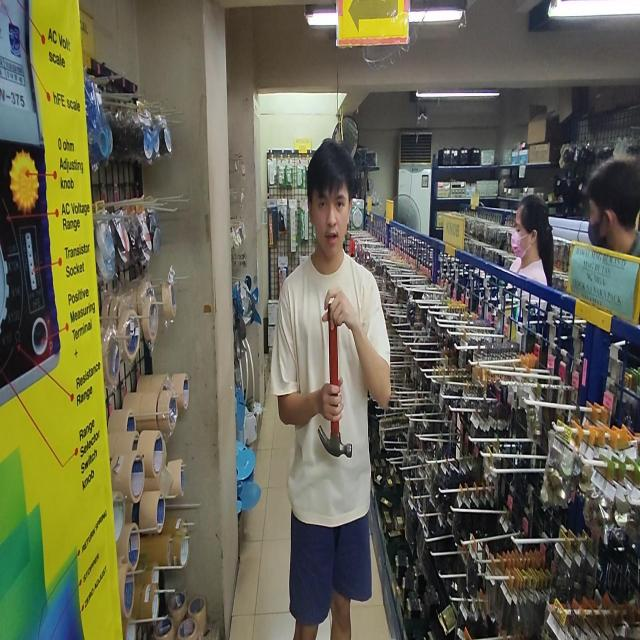hammer: (317, 302, 353, 458)
